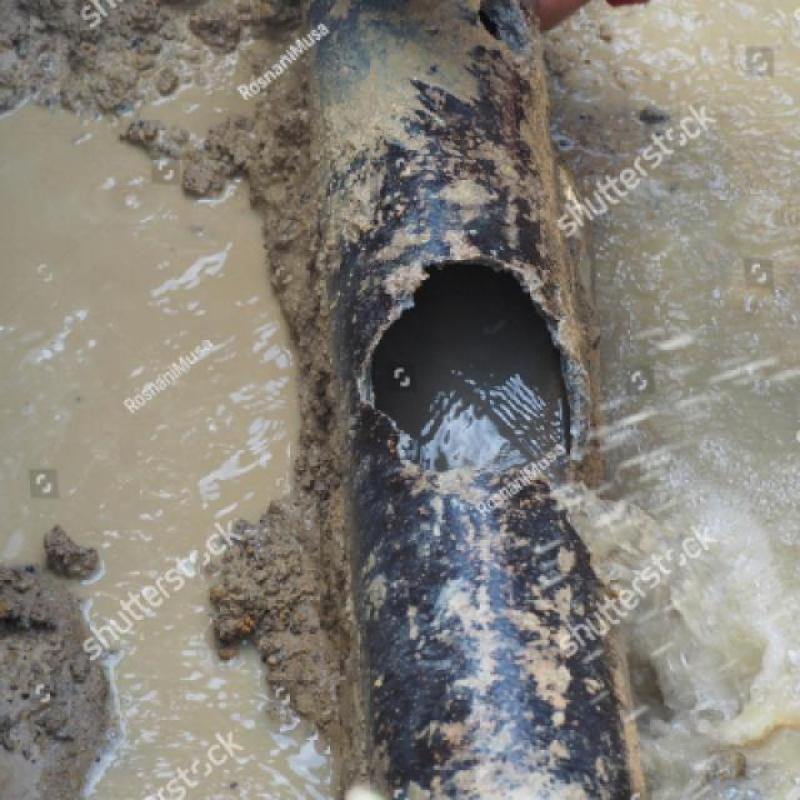Fracture: (345, 210, 597, 492)
